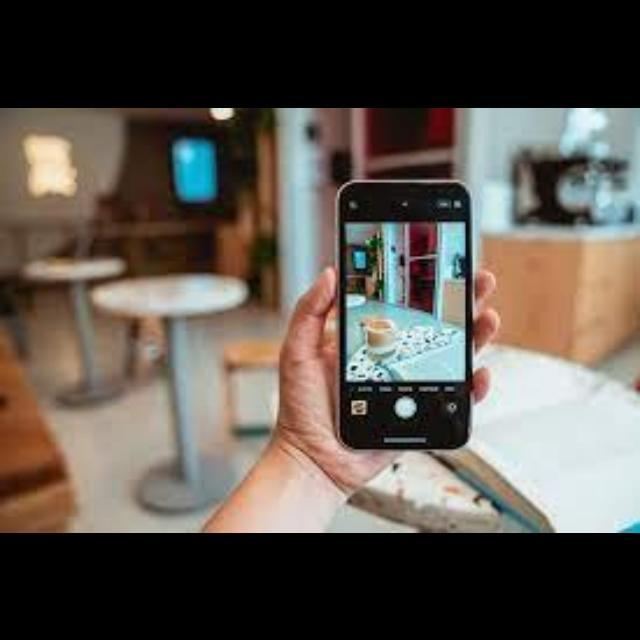Phone: (334, 178, 472, 450)
